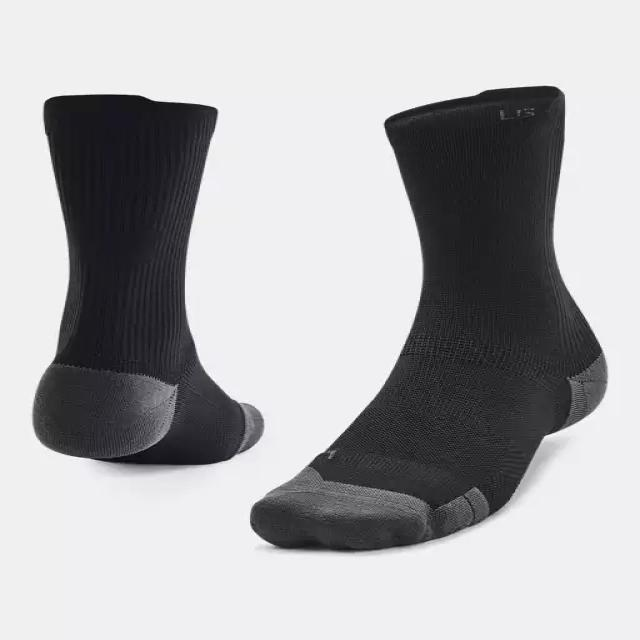sock: (248, 84, 608, 551), (31, 92, 264, 465)
